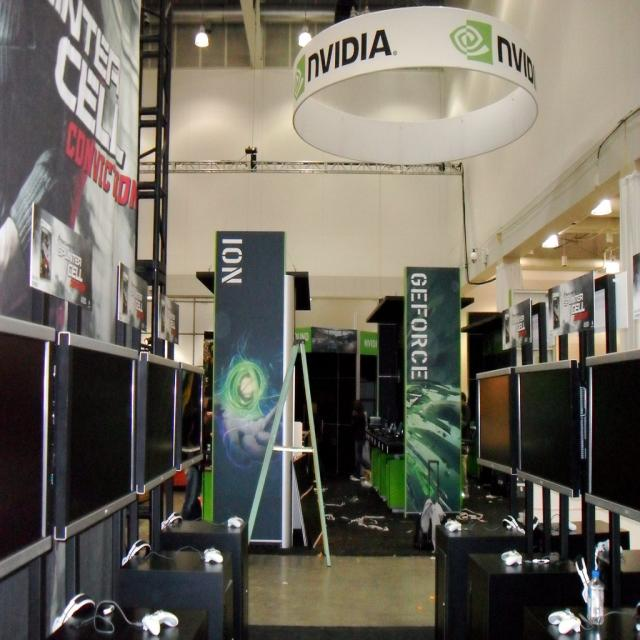nvidia: (450, 18, 494, 66), (294, 58, 306, 101)
